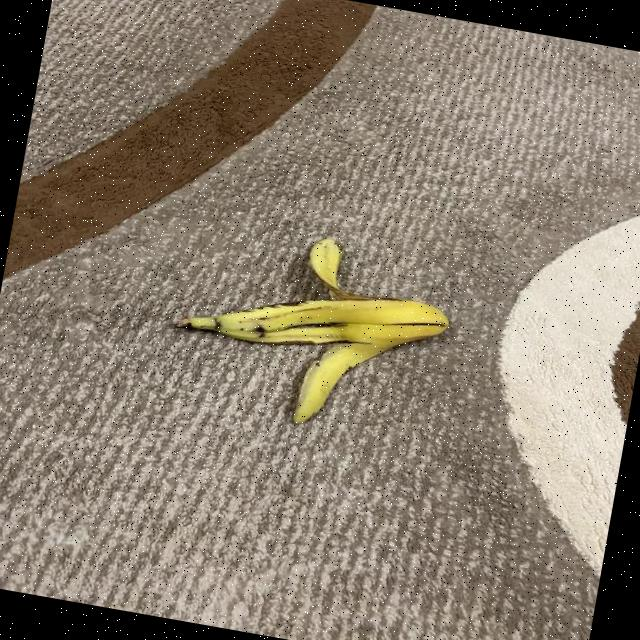banana-peel: (158, 213, 460, 447)
